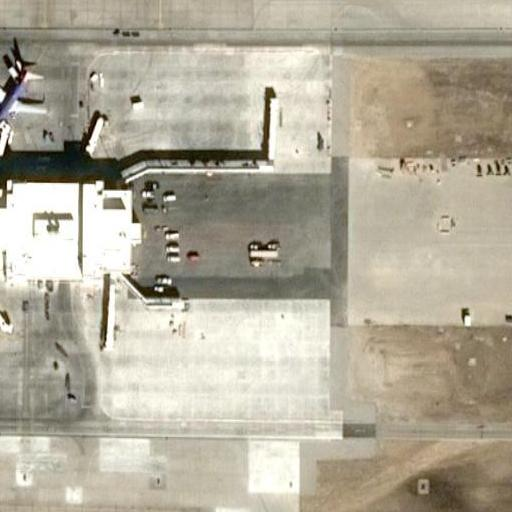Aircraft: (0, 47, 48, 136)
